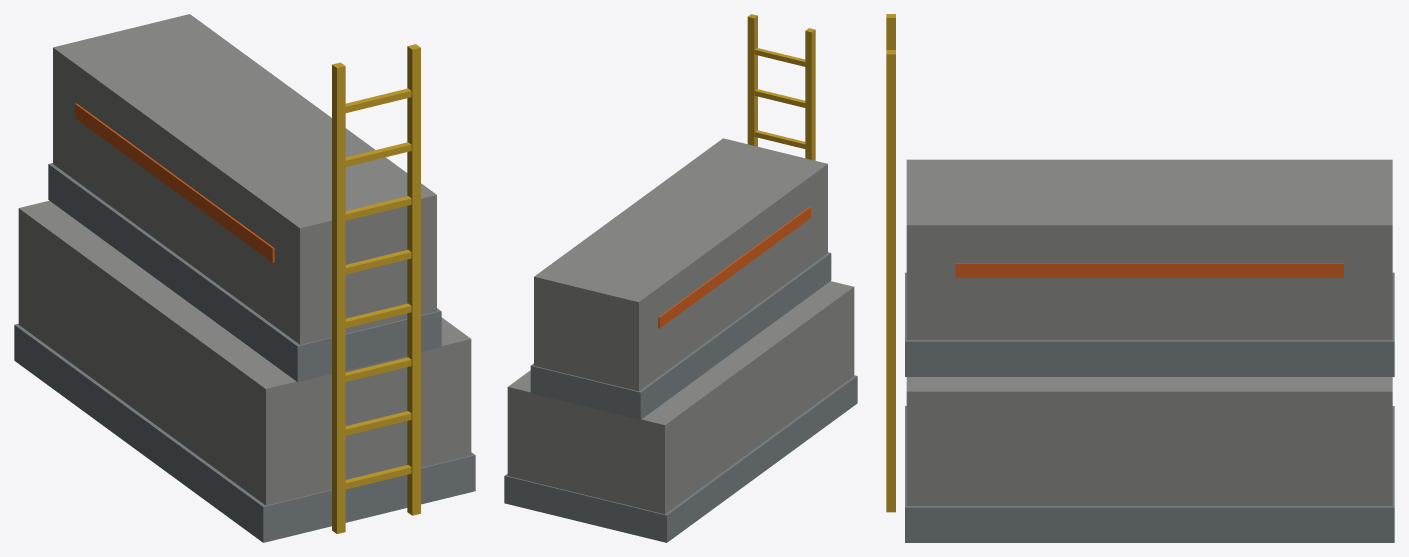
The model's file is jersey_stack.glb.
3 views of the same model, side by side, from view 1: azimuth 30°, elevation 25°; view 2: azimuth 150°, elevation 25°; view 3: azimuth 270°, elevation 25° (orthographic). The views are drawn at different scales.
Parts seen in each view (by area): view 1: jersey_stack; view 2: jersey_stack; view 3: jersey_stack.
Part boxes in pixels (x1,y1,x2,y2): jersey_stack: (14, 14, 475, 542); jersey_stack: (504, 14, 857, 542); jersey_stack: (886, 14, 1394, 542).
Size of the model in its own units: 1.24 by 2.6 by 2.62.
